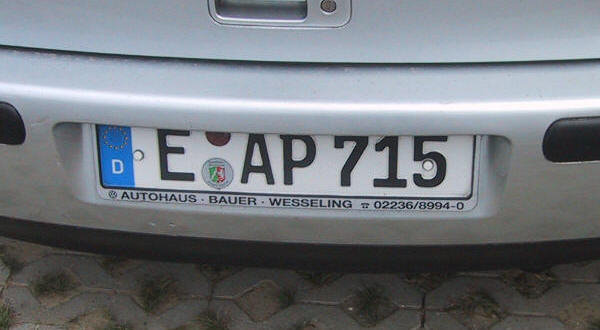license_plate: (89, 124, 478, 210)
